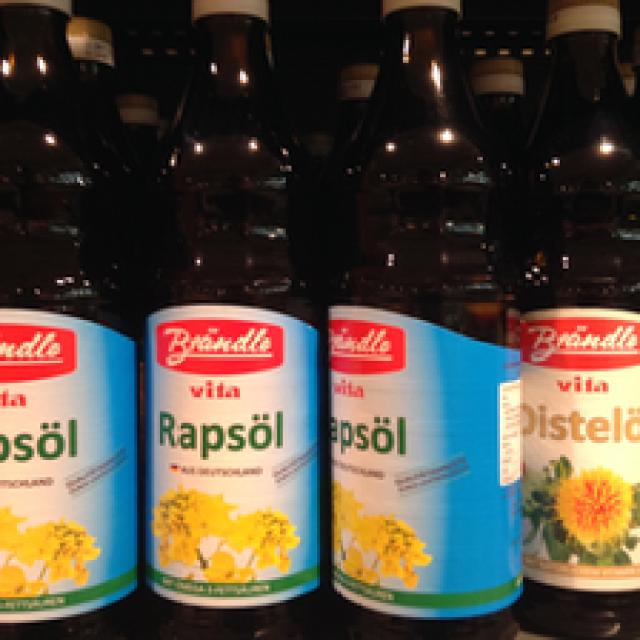groceries: (317, 0, 528, 634), (134, 0, 323, 637), (0, 0, 137, 637), (506, 3, 637, 623)
